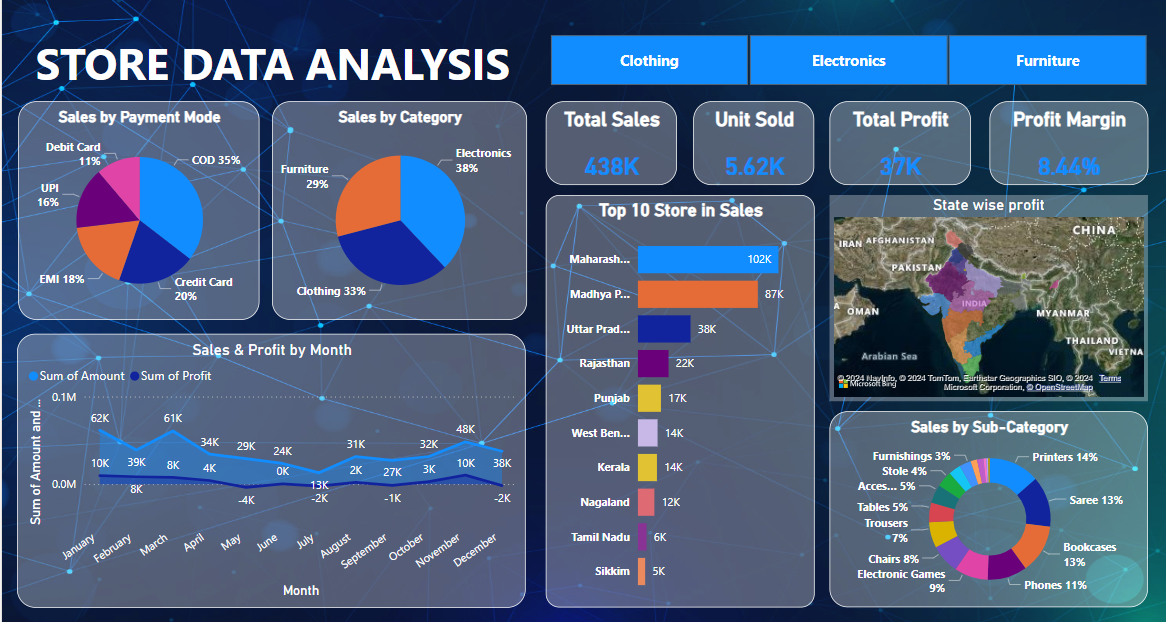

Layout of this report page (visuals, bound fields, positions):
{"tool":"powerbi","page":{"name":"Page 1","canvas":[1280,720],"ordinal":0},"visuals":[{"type":"cardVisual","title":"Total Sales","fields":{"Data":["Sum(DETAILS.Amount)"]},"box":[596.9,144.1,144.1,91.9],"z":0},{"type":"cardVisual","title":"Total Profit","fields":{"Data":["Sum(DETAILS.Profit)"]},"box":[908.4,144.1,155.1,91.9],"z":1000},{"type":"cardVisual","title":"Unit Sold","fields":{"Data":["Sum(DETAILS.Quantity)"]},"box":[758.8,144.1,133.1,91.9],"z":2000},{"type":"cardVisual","title":"Profit Margin","fields":{"Data":["DETAILS.Profit Margin"]},"box":[1084.1,144.1,174.3,91.9],"z":3000},{"type":"slicer","fields":{"Values":["DETAILS.Category"]},"box":[576.3,64.5,703.9,68.6],"z":4000},{"type":"areaChart","title":"Sales & Profit by Month","fields":{"Category":["ORDERS.Order Date.Variation.Date Hierarchy.Month"],"Y":["Sum(DETAILS.Amount)","Sum(DETAILS.Profit)"]},"box":[16.5,399.3,558.5,300.5],"z":5000},{"type":"donutChart","title":"Sales by Sub-Category","fields":{"Y":["Sum(DETAILS.Amount)"],"Category":["DETAILS.Sub-Category"]},"box":[908.4,484.4,349.9,215.4],"z":6000},{"type":"clusteredBarChart","title":"Top 10 Store in Sales","fields":{"Y":["Sum(DETAILS.Amount)"],"Category":["ORDERS.State"]},"box":[596.9,247,295,452.8],"z":7000},{"type":"filledMap","title":"State wise profit","fields":{"Category":["ORDERS.State"],"Series":["DETAILS.Profit"]},"box":[908.4,247,349.9,226.4],"z":8000},{"type":"pieChart","title":"Sales by Payment Mode","fields":{"Y":["Sum(DETAILS.Amount)"],"Category":["DETAILS.PaymentMode"]},"box":[17.8,144.1,264.8,240.1],"z":9000},{"type":"pieChart","title":"Sales by Category","fields":{"Y":["Sum(DETAILS.Amount)"],"Category":["DETAILS.Category"]},"box":[296.4,144.1,279.9,240.1],"z":10000},{"type":"textbox","box":[19.2,41.2,555.7,79.6],"z":11000}]}

Visuals, with their boxes in screenshot pixels (x1, y1, x2, y2):
"Total Sales" cardVisual: [541, 99, 673, 183]
"Total Profit" cardVisual: [826, 99, 969, 183]
"Unit Sold" cardVisual: [689, 99, 811, 183]
"Profit Margin" cardVisual: [987, 99, 1147, 183]
slicer - DETAILS.Category: [522, 26, 1165, 89]
"Sales & Profit by Month" areaChart: [9, 333, 521, 608]
"Sales by Sub-Category" donutChart: [826, 411, 1147, 608]
"Top 10 Store in Sales" clusteredBarChart: [541, 193, 811, 608]
"State wise profit" filledMap: [826, 193, 1147, 400]
"Sales by Payment Mode" pieChart: [10, 99, 253, 319]
"Sales by Category" pieChart: [266, 99, 522, 319]
textbox: [12, 4, 521, 77]
